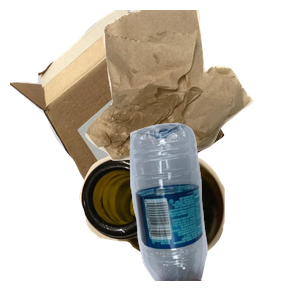cardboard: (10, 10, 227, 190)
glass: (77, 147, 295, 300)
plastic: (127, 120, 300, 300)
trash: (83, 10, 300, 163)
